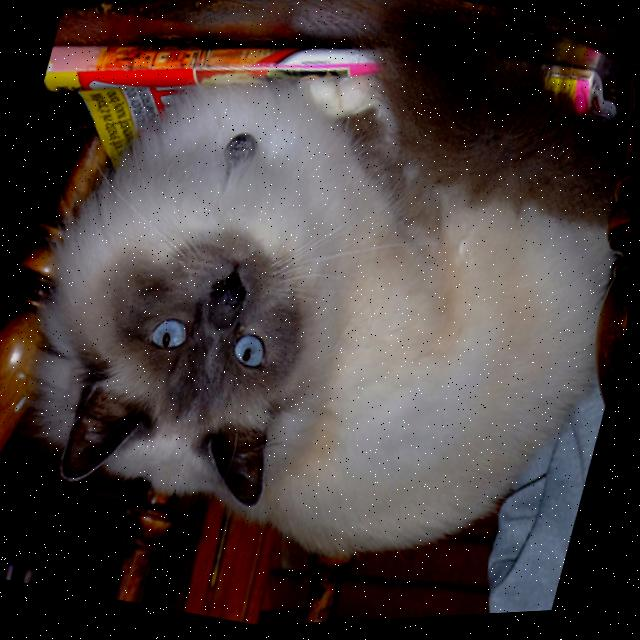Birman: (0, 0, 640, 635)
